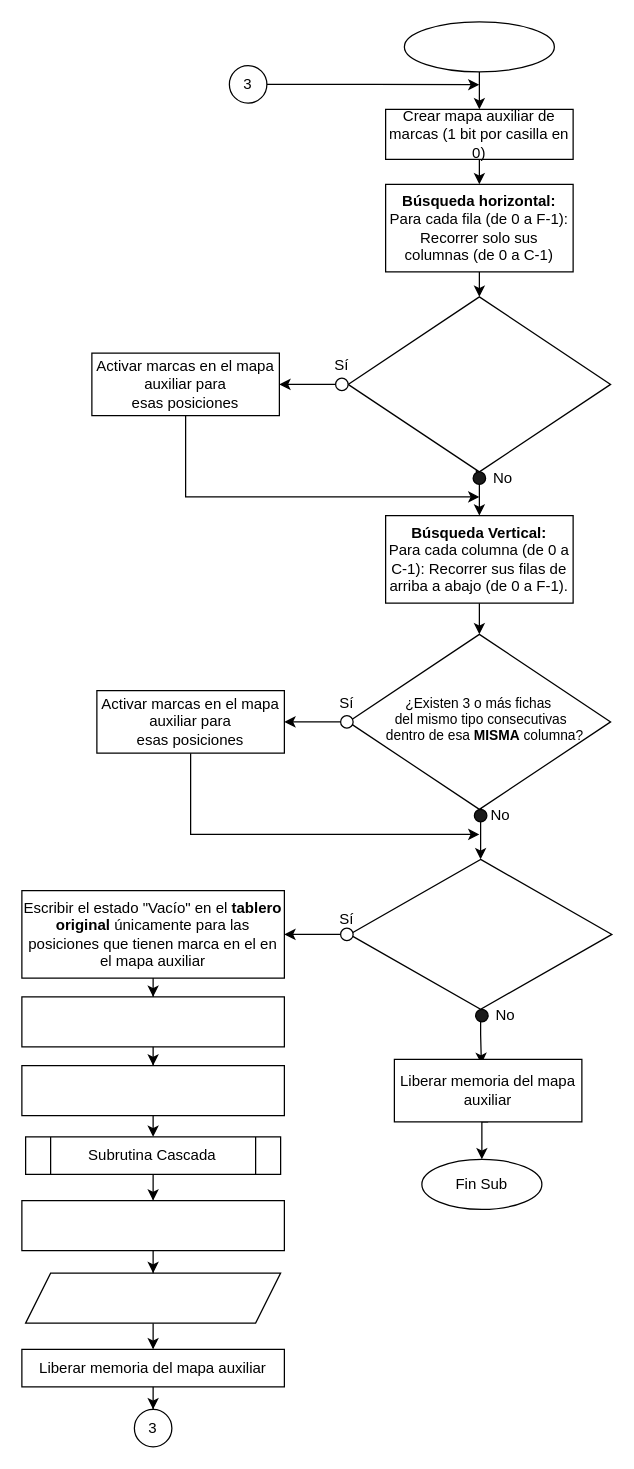
Image size: 634x1469. Some labels were removed from this diagram. The centre of each missing label's shape, as x and y in pixels:
"Contador de cascadas de esta jugada += 1" belongs at point (152, 1225).
"Mostrar estadísticas" belongs at point (152, 1297).
"Subrutina combinaciones" belongs at point (478, 46).
"Sumar la cantidad de ficha destruidas al total de fichas eliminadas" belongs at point (152, 1090).
"Sumar los puntos obtenidos a puntuación acumulada" belongs at point (152, 1021).
"¿Existen 3 o más fichas del mismo tipo consecutivas dentro de esa MISMA fila?" belongs at point (479, 384).
"¿Se detectó al menos una combinación válida (horizontal o vertical)?" belongs at point (480, 933).
